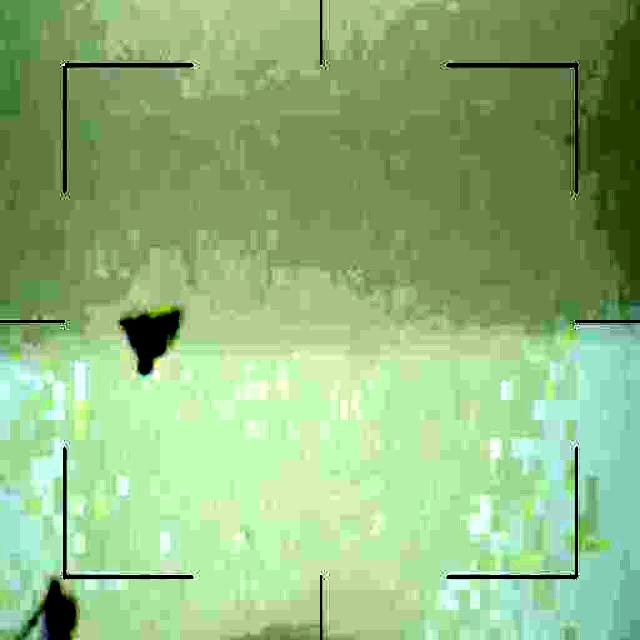bird: (112, 306, 180, 375)
